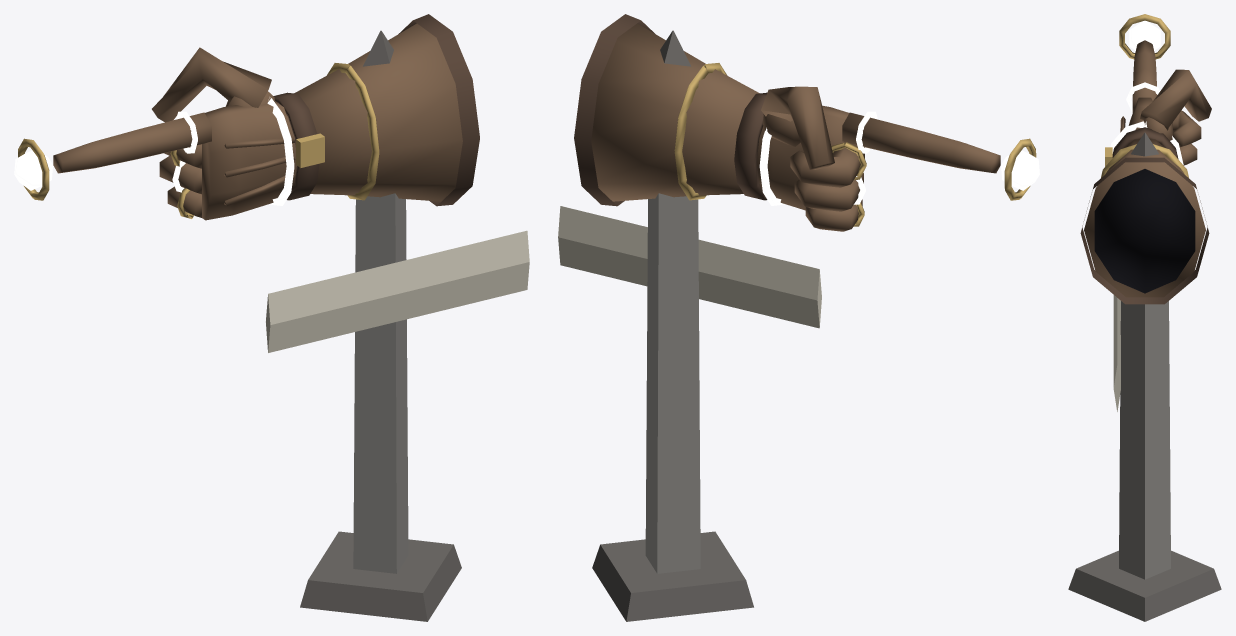
Rendered from gauntlet-fingerpost.glb.
The picture shows the model from 3 angles, left to right: view 1: azimuth 30°, elevation 25°; view 2: azimuth 150°, elevation 25°; view 3: azimuth 270°, elevation 25°; orthographic projection. The views are drawn at different scales.
Visible parts, largest first — view 1: gauntlet-fingerpost; view 2: gauntlet-fingerpost; view 3: gauntlet-fingerpost.
Part boxes in pixels (box(x1,y1,x2,y2)): gauntlet-fingerpost: box(14, 14, 529, 621); gauntlet-fingerpost: box(558, 14, 1039, 621); gauntlet-fingerpost: box(1068, 14, 1221, 621).
Size of the model in its own units: 0.7349 by 0.7899 by 0.24.
